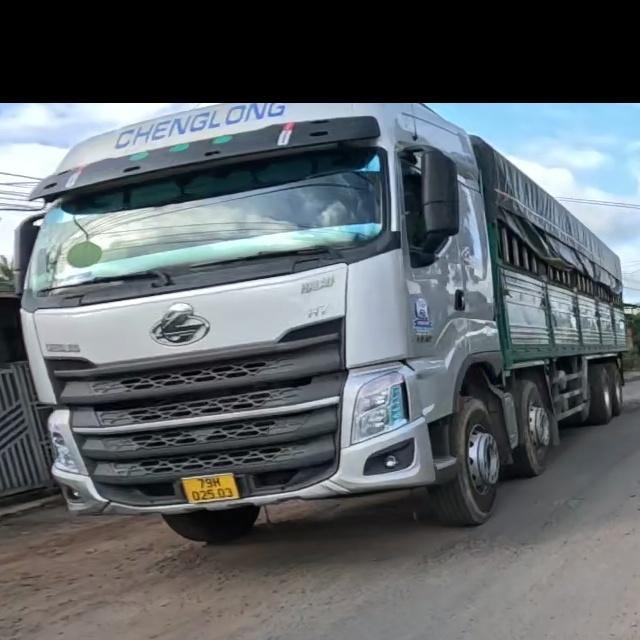license-plate: (181, 473, 240, 504)
